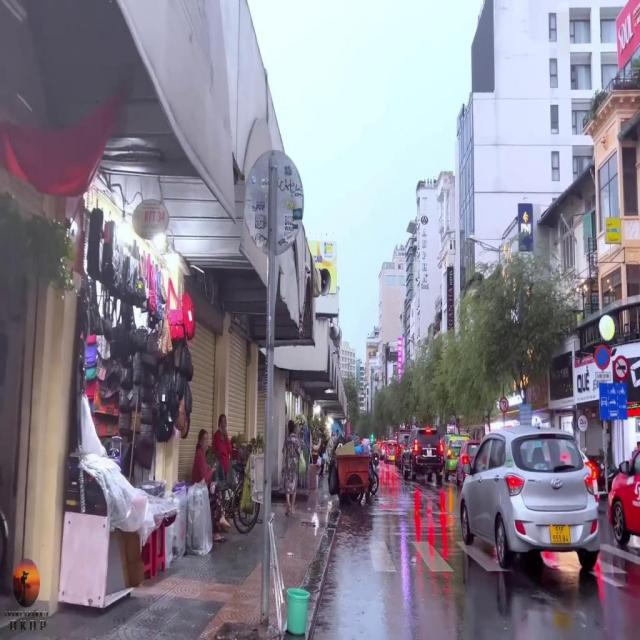cam_do_xe: (594, 343, 610, 370)
cam_o_to_re_trai: (500, 397, 509, 412)
cam_o_to_tai_trong_luong_qua_10t: (614, 355, 630, 381)
khac: (599, 383, 628, 420), (596, 372, 611, 381)
